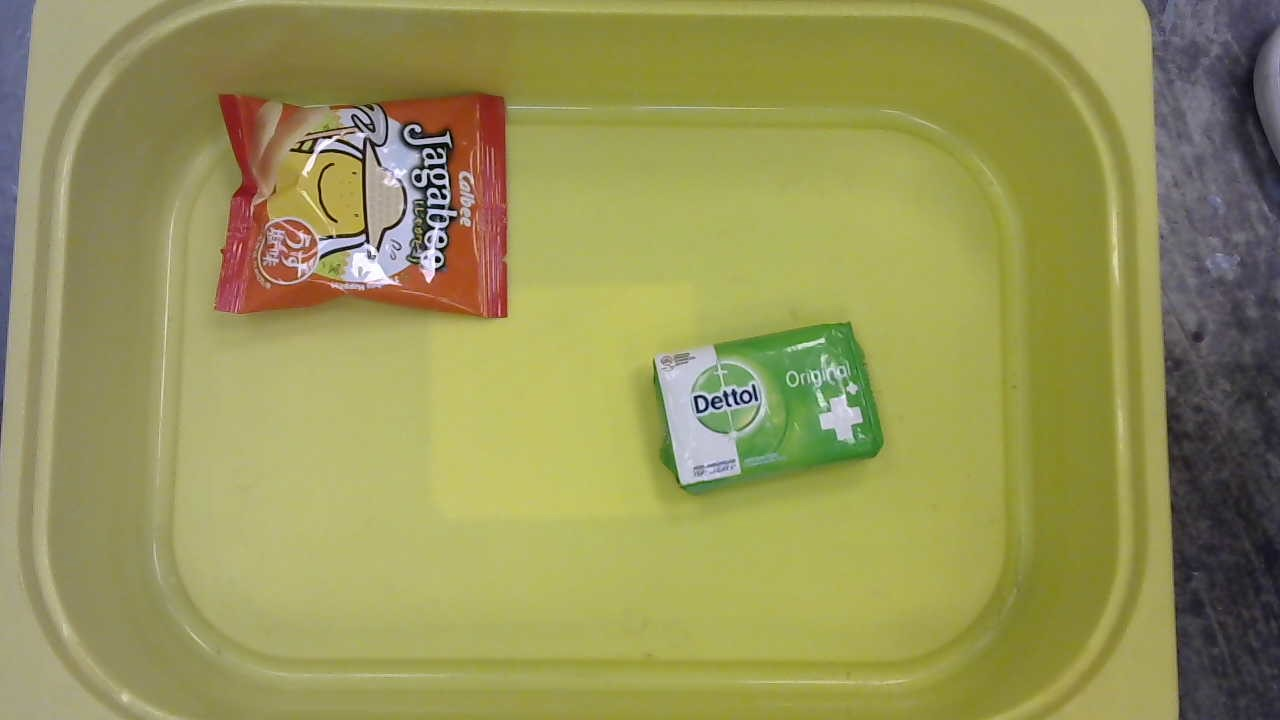Dettol: (636, 320, 887, 497)
JagabeeFarmer: (210, 88, 513, 325)
